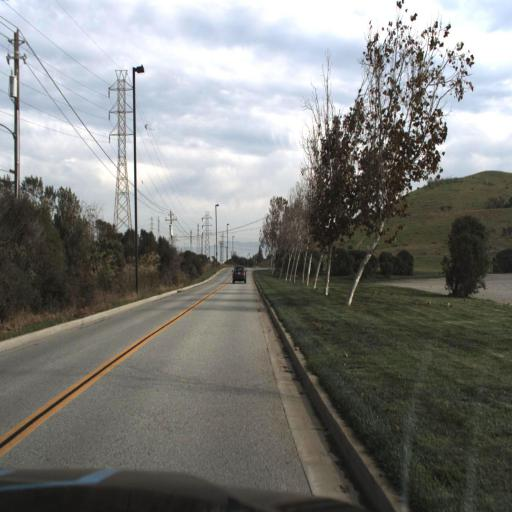car: (230, 262, 251, 286)
